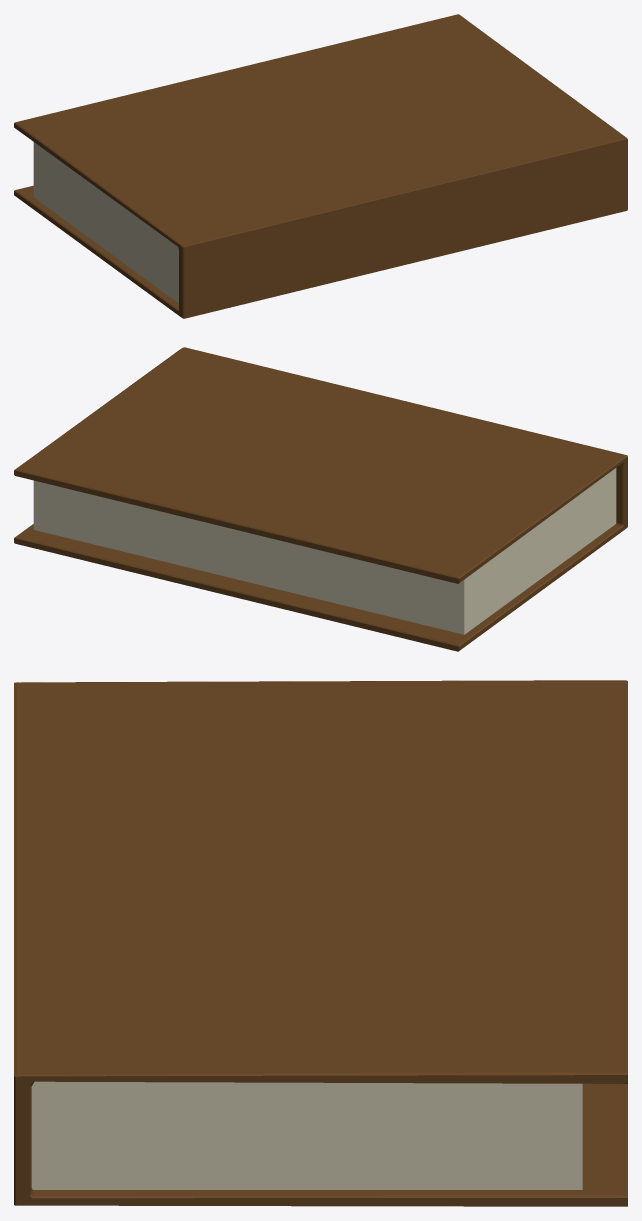
The model's file is Book01.fbx.
3 views of the same model, one above another, from view 1: azimuth 30°, elevation 25°; view 2: azimuth 150°, elevation 25°; view 3: azimuth 270°, elevation 25° (orthographic). The views are drawn at different scales.
Parts seen in each view (by area): view 1: Book_cover, book_paper; view 2: Book_cover, book_paper; view 3: Book_cover, book_paper.
Boxes of the visible parts, <box> form: Book_cover: <box>14,14,627,318</box>; book_paper: <box>33,142,178,303</box>; Book_cover: <box>14,347,627,651</box>; book_paper: <box>33,468,616,634</box>; Book_cover: <box>14,680,627,1206</box>; book_paper: <box>31,1081,582,1189</box>.
Bounding box in the file's own units: 541 × 85.87 × 356.
